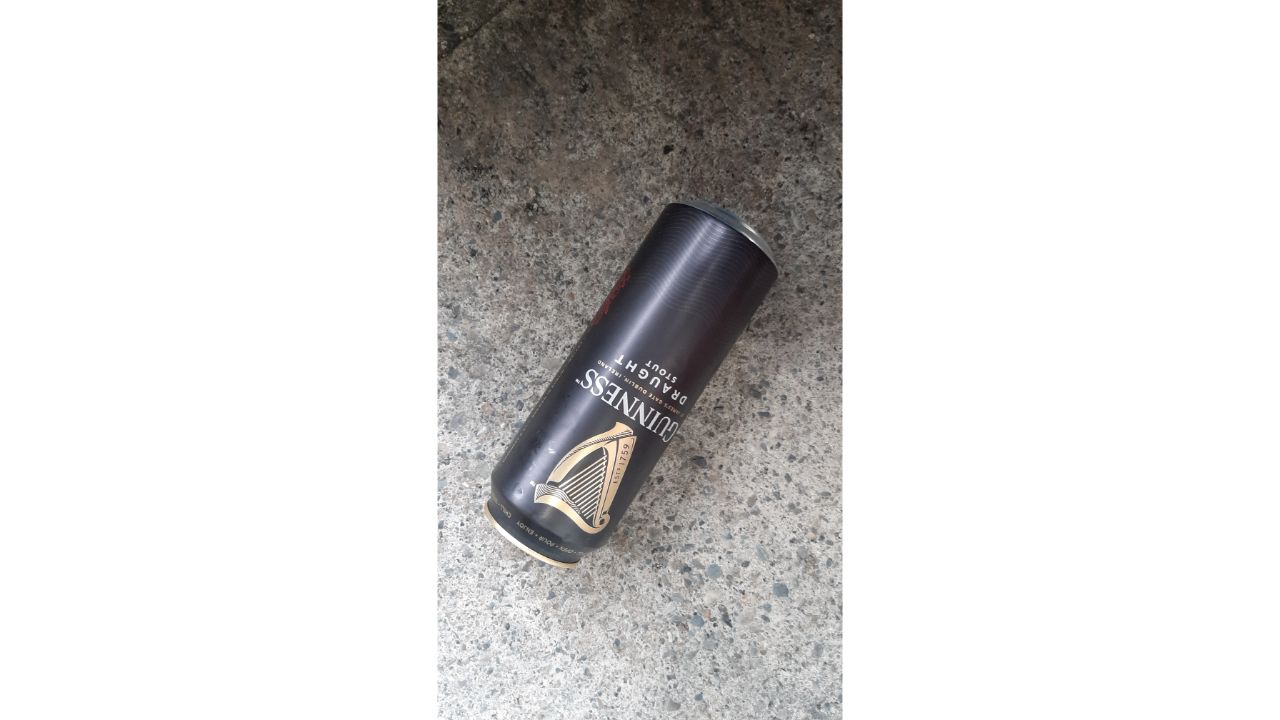Can: (474, 183, 789, 580)
